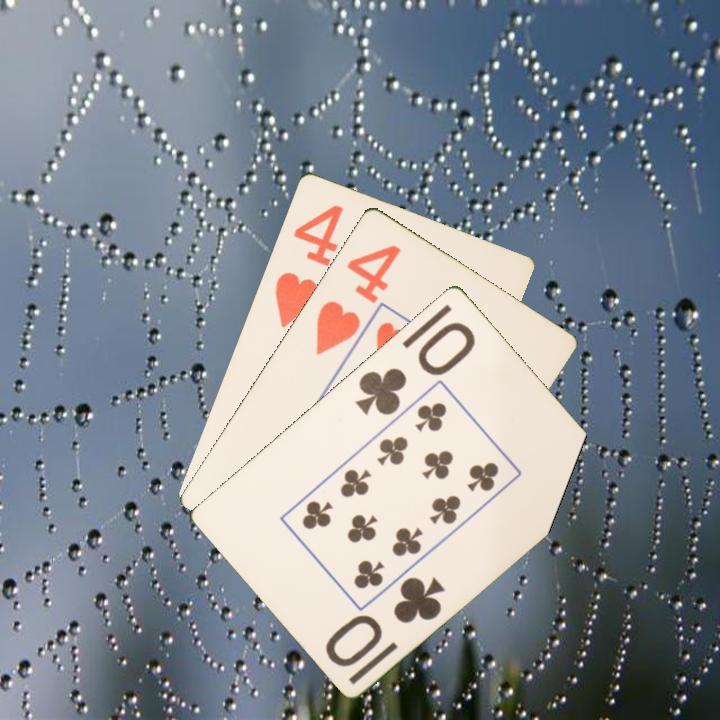10c: (351, 317, 479, 418), (322, 572, 449, 670)
4h: (311, 240, 404, 358), (271, 200, 346, 330)
